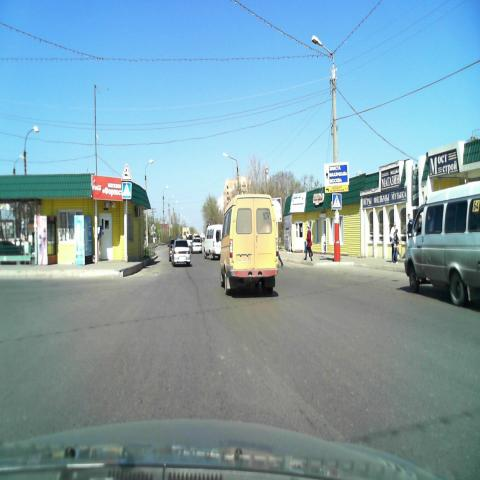1_2: (120, 163, 132, 183)
5_19_1: (121, 183, 132, 201), (332, 193, 342, 209)
